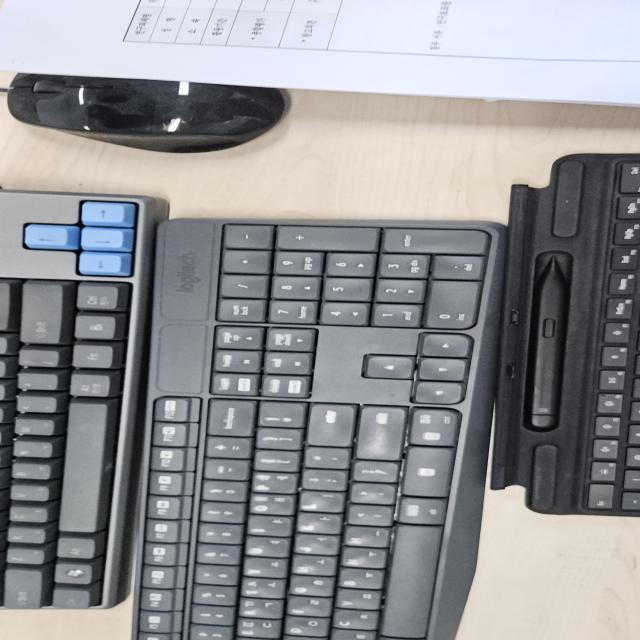Keyboard: (3, 152, 636, 638)
Mouse: (9, 56, 287, 148)
